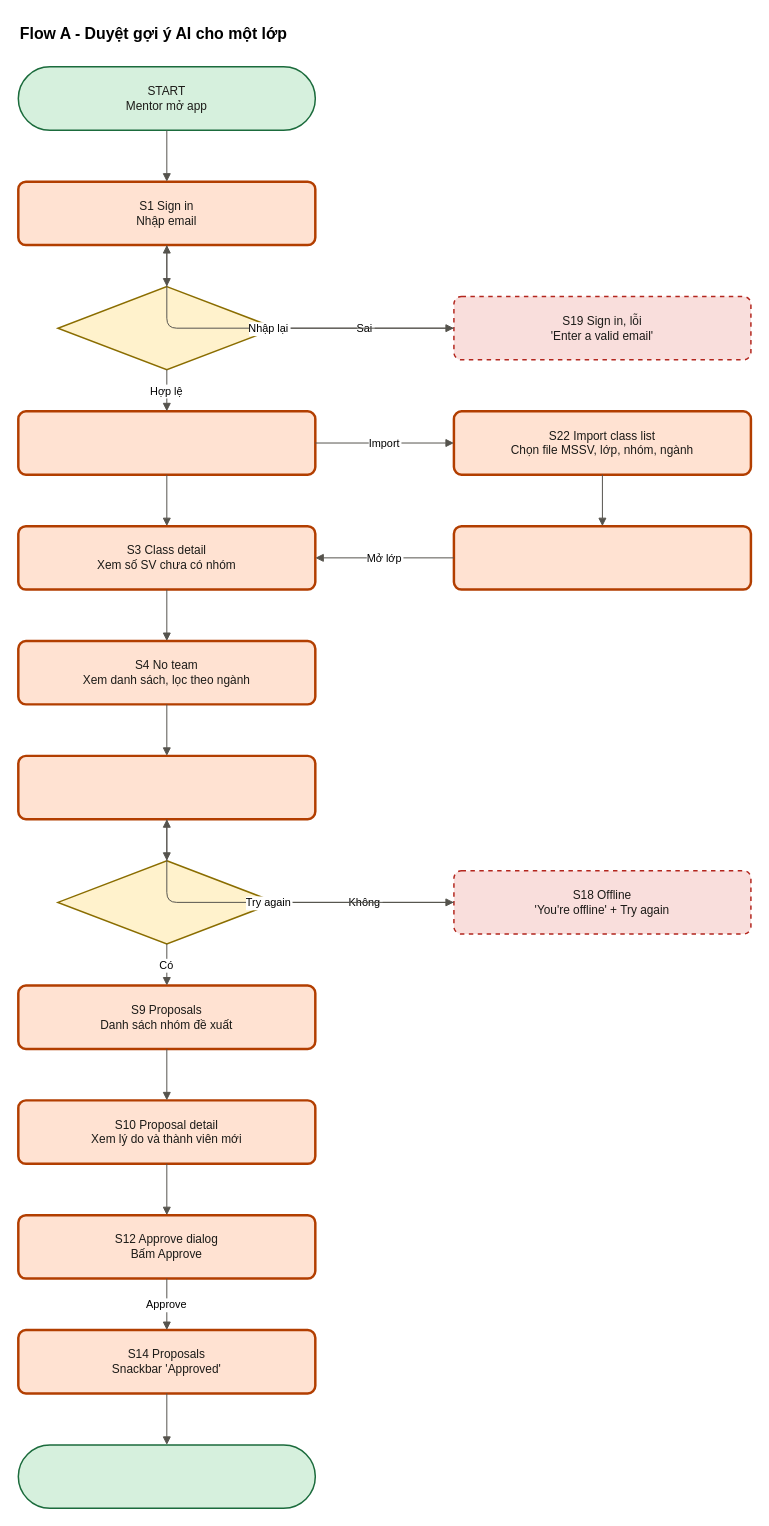
Some shapes in this 769 by 1526 pixel diagram are drawn without their labels. The centre of each missing label's shape, as x and y in pixels:
"Email hợp lệ?" goes at [166,327].
"END Nhóm đã duyệt, SV được báo" goes at [166,1476].
"Kết nối ổn?" goes at [166,902].
"S2 My classes Chọn một lớp" goes at [166,442].
"S23 Import result Ẩn SV đã có nhóm, nhóm đủ 6" goes at [602,557].
"S8 AI matching Bấm Match with AI, chờ" goes at [166,787].
